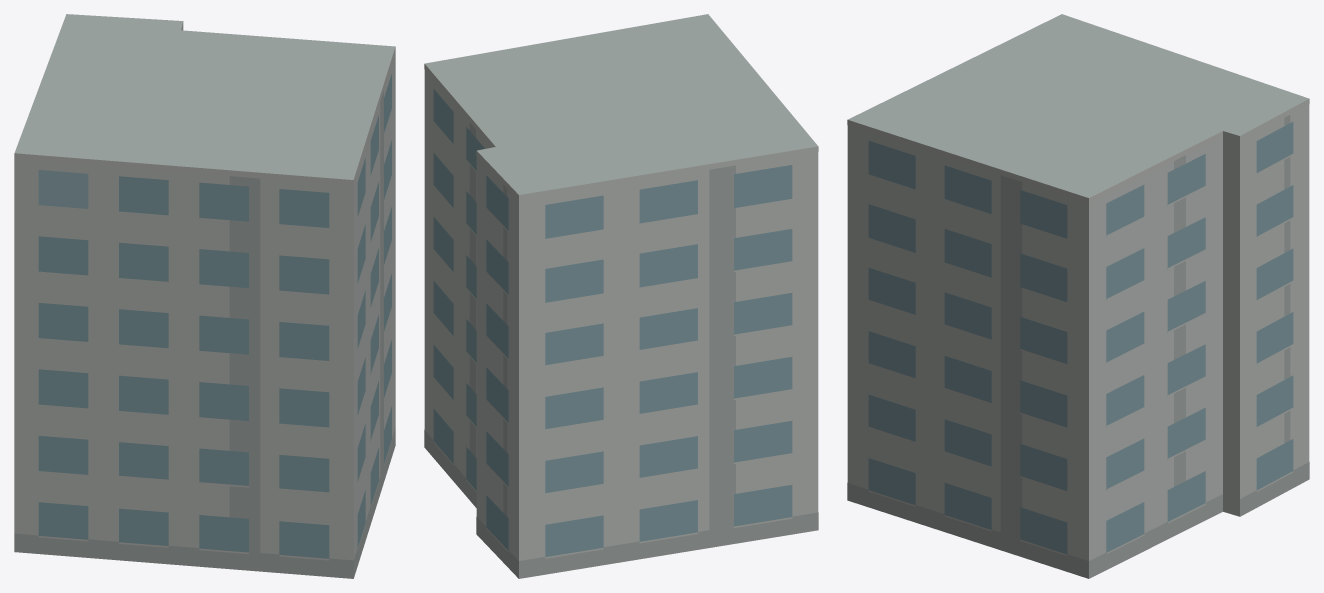
The model's file is survey-upis-32824395.glb.
The picture shows the model from 3 angles, left to right: view 1: azimuth 30°, elevation 25°; view 2: azimuth 150°, elevation 25°; view 3: azimuth 270°, elevation 25°; orthographic projection. The views are drawn at different scales.
Parts seen in each view (by area): view 1: survey-upis-32824395.tmp; view 2: survey-upis-32824395.tmp; view 3: survey-upis-32824395.tmp.
Part boxes in pixels (bbox=[...]): survey-upis-32824395.tmp: bbox=[14, 14, 395, 578]; survey-upis-32824395.tmp: bbox=[424, 14, 818, 578]; survey-upis-32824395.tmp: bbox=[847, 14, 1309, 578].
Size of the model in its own units: 17.33 by 16.7 by 18.37.
